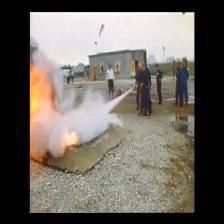fire: (29, 63, 52, 114), (59, 126, 80, 146)
